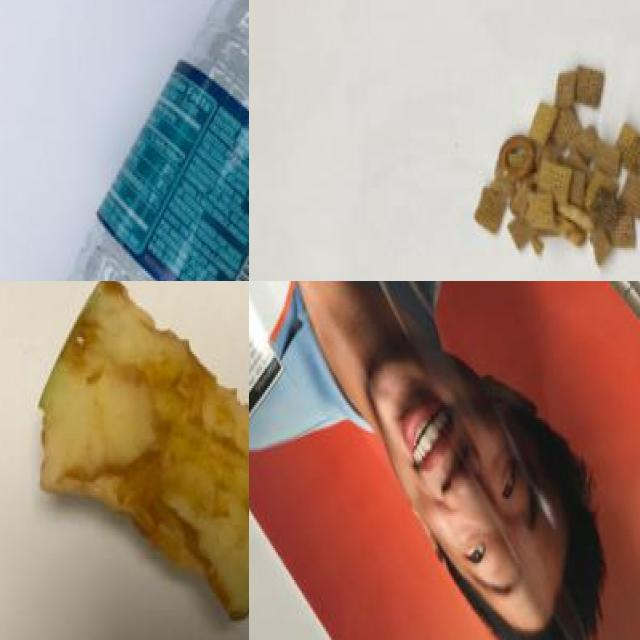compost: (29, 281, 249, 640), (463, 35, 640, 281)
paper: (249, 281, 640, 640)
plastic: (28, 0, 249, 281)
